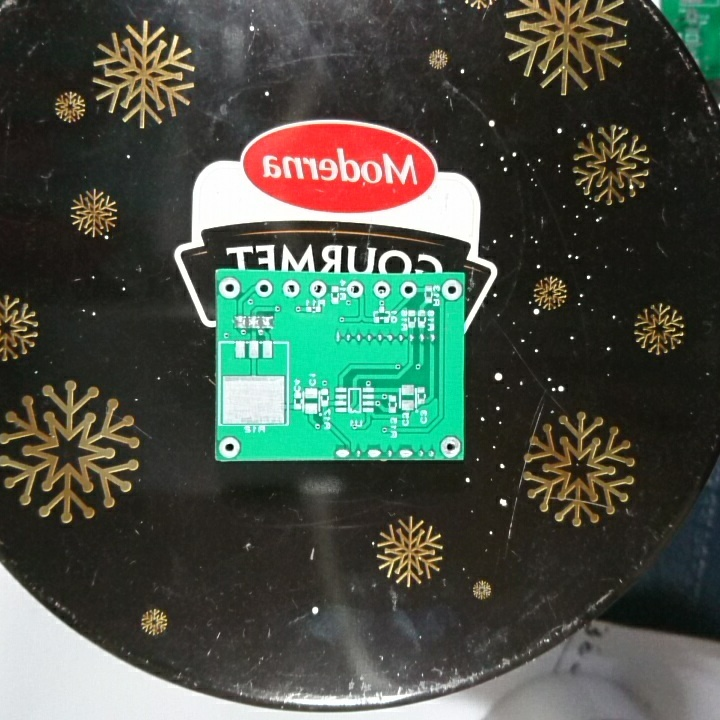F: (216, 434, 242, 460), (437, 433, 462, 459), (217, 275, 243, 300), (439, 276, 462, 303), (279, 278, 303, 300), (254, 277, 276, 300), (397, 278, 419, 300), (345, 278, 366, 300), (371, 278, 393, 299), (308, 278, 328, 301)
P: (396, 445, 416, 459), (334, 446, 352, 458), (365, 447, 383, 459)
